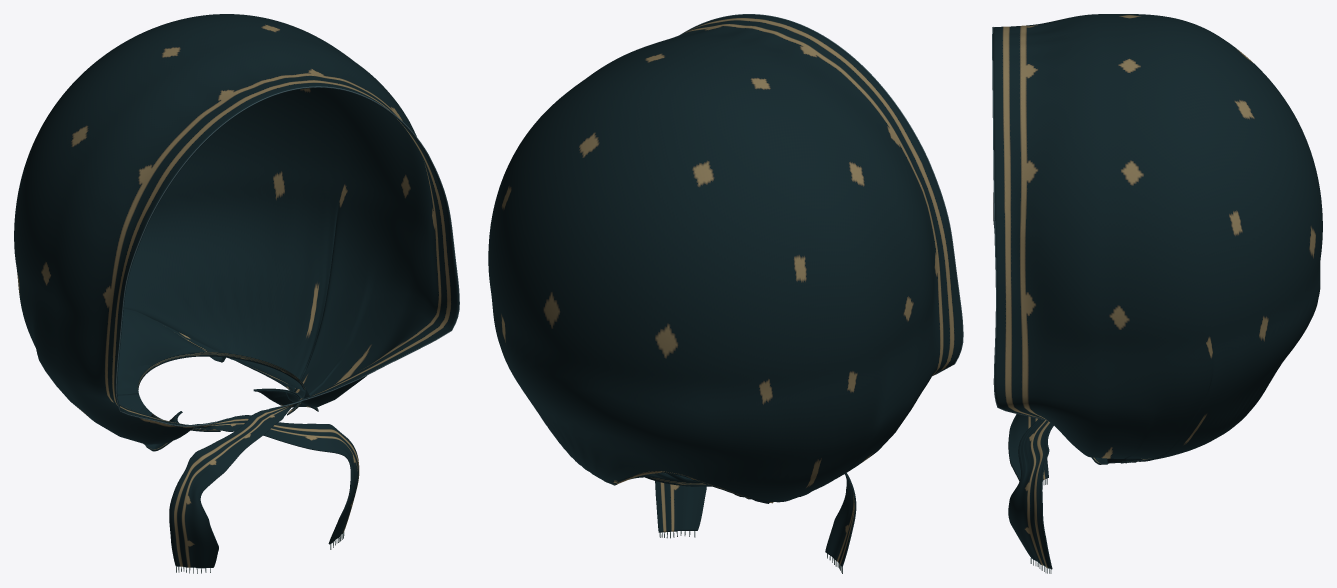
Rendered from Feminine-Feminine-ponytail-sweatshirt-pashmina251-headgear-10ab83d2.glb.
3 renders of one model, left to right at view 1: azimuth 30°, elevation 25°; view 2: azimuth 150°, elevation 25°; view 3: azimuth 270°, elevation 25°, orthographic. The views are drawn at different scales.
Visible parts, largest first — view 1: 226 headgear / Headwear / continuous woven pashmina239, 226 headgear / Headwear / face edge239; view 2: 226 headgear / Headwear / continuous woven pashmina239, 226 headgear / Headwear / face edge239; view 3: 226 headgear / Headwear / continuous woven pashmina239, 226 headgear / Headwear / face edge239.
Part boxes in pixels (x1,y1,x2,y2): 226 headgear / Headwear / continuous woven pashmina239: (14, 14, 458, 568); 226 headgear / Headwear / face edge239: (115, 86, 459, 426); 226 headgear / Headwear / continuous woven pashmina239: (488, 14, 962, 567); 226 headgear / Headwear / face edge239: (680, 14, 963, 375); 226 headgear / Headwear / continuous woven pashmina239: (993, 14, 1322, 569); 226 headgear / Headwear / face edge239: (992, 27, 1045, 419).
Size of the model in its own units: 1.07 by 1.4 by 0.8393.
3 materials, 1 textured.
